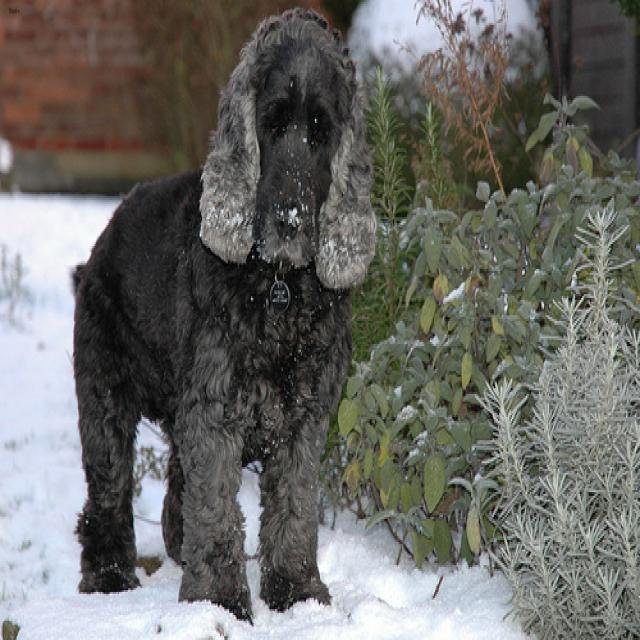dog-english_cocker_spaniel: (64, 2, 384, 634)
